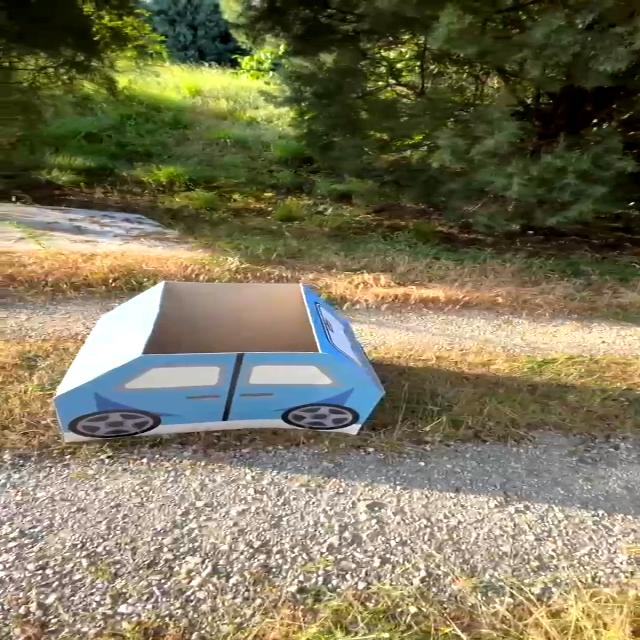blue_car: (26, 266, 452, 465)
